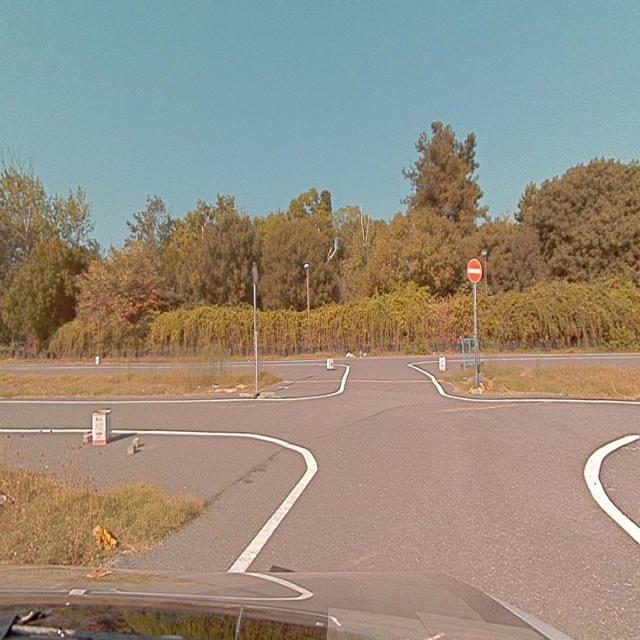girisyok: (468, 257, 482, 283)
